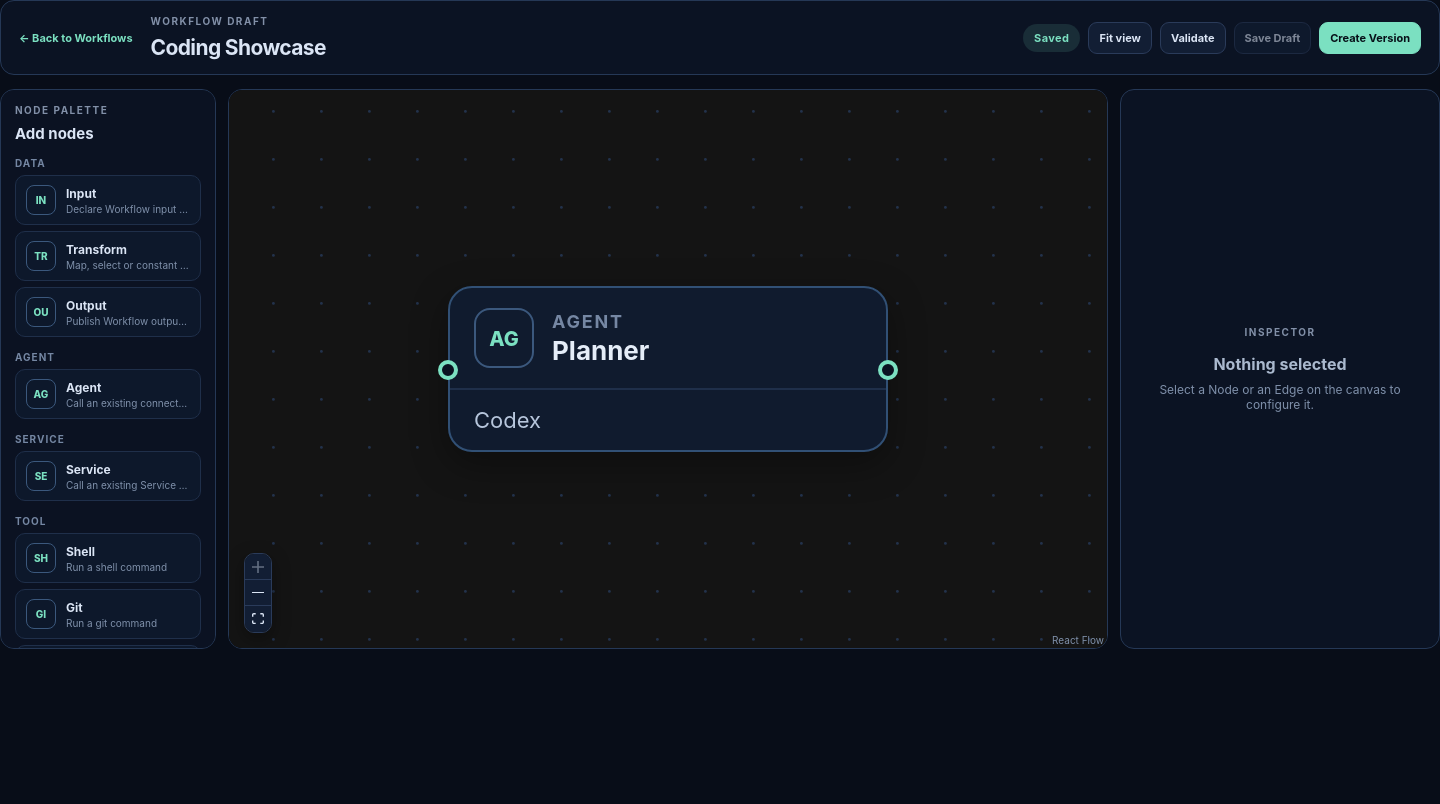
WorkflowBuilderPage › focuses a node when a validation issue is clicked
The width and height of the screenshot is (1440, 804).
Expected: the heading "Coding Showcase" is shown, [151,35,326,60]
Click the button "Validate" at point(1193, 38), box [1160,22,1226,54]
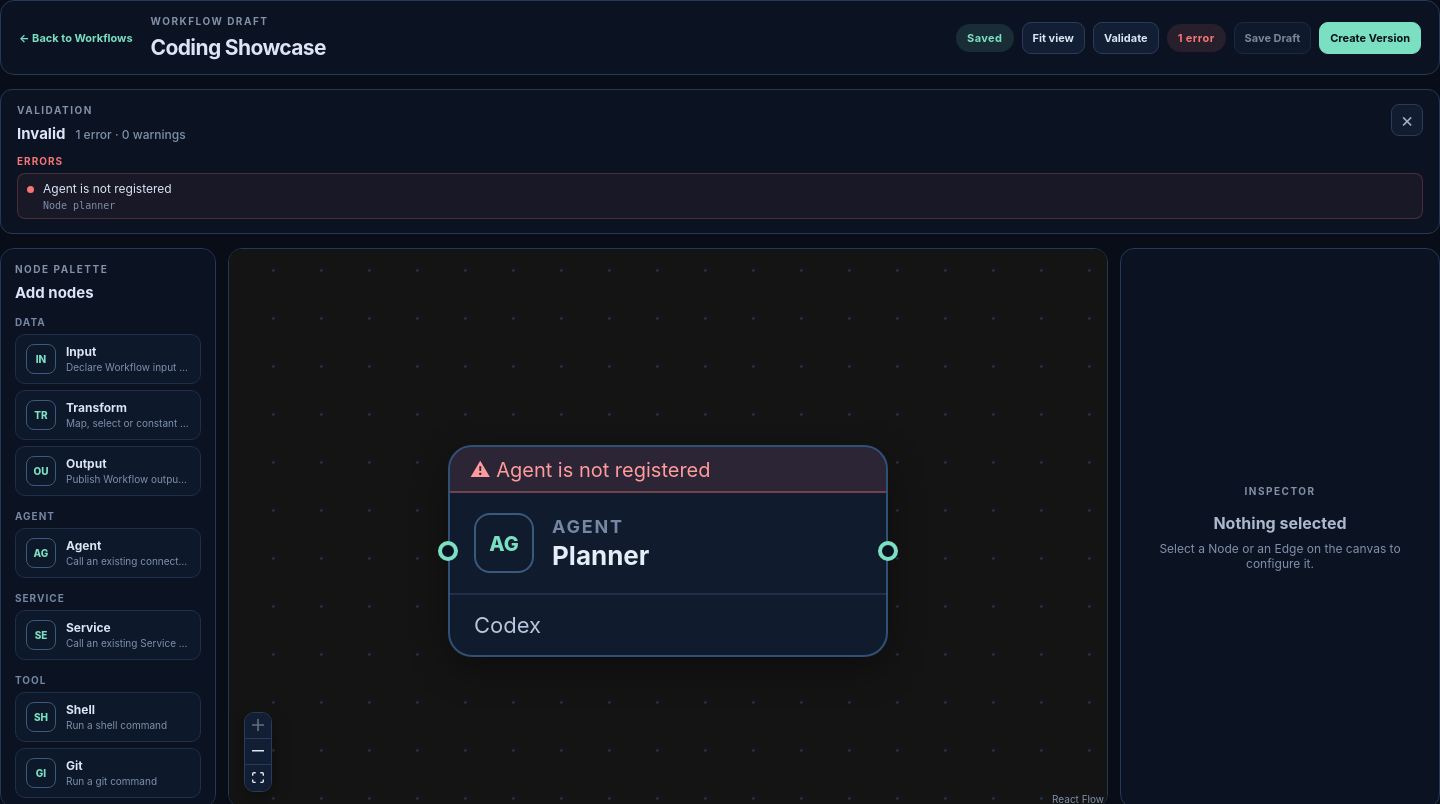
Click the text "Agent is not registered" at point(107, 189), box [43,181,172,198]
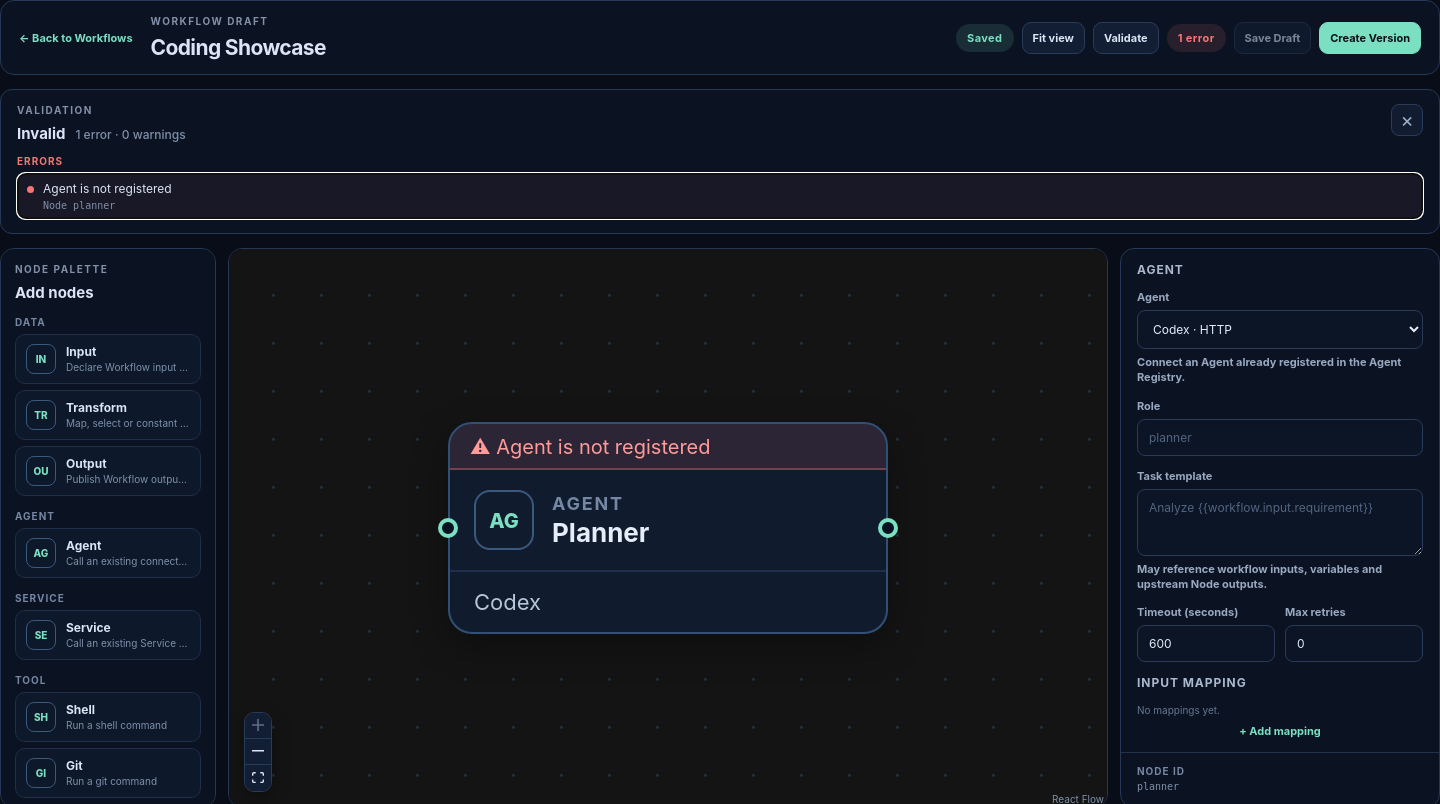
Now the text "planner" is shown, box [1137,781,1179,792]
